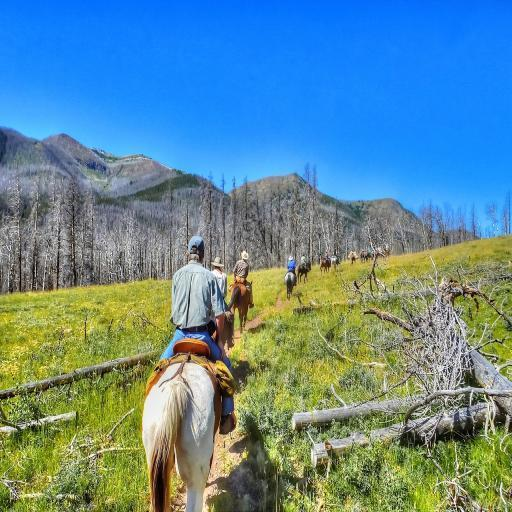horse: (140, 312, 227, 512), (228, 278, 252, 337), (216, 304, 236, 364), (296, 258, 312, 282), (286, 268, 296, 302), (372, 246, 384, 260), (319, 258, 330, 272), (331, 257, 342, 271), (364, 249, 373, 262), (348, 252, 357, 264), (358, 248, 364, 264)
